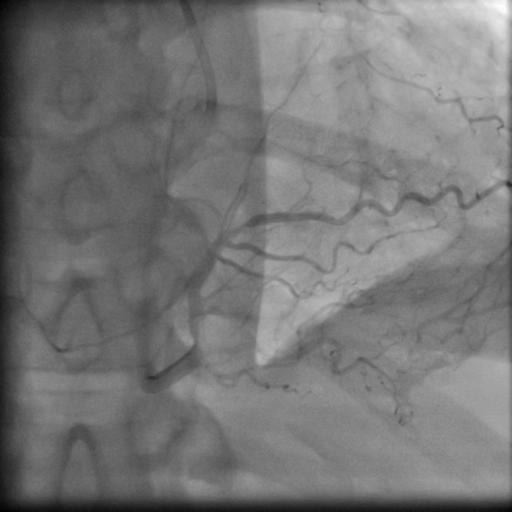Stenosis: (224, 219, 250, 239)
